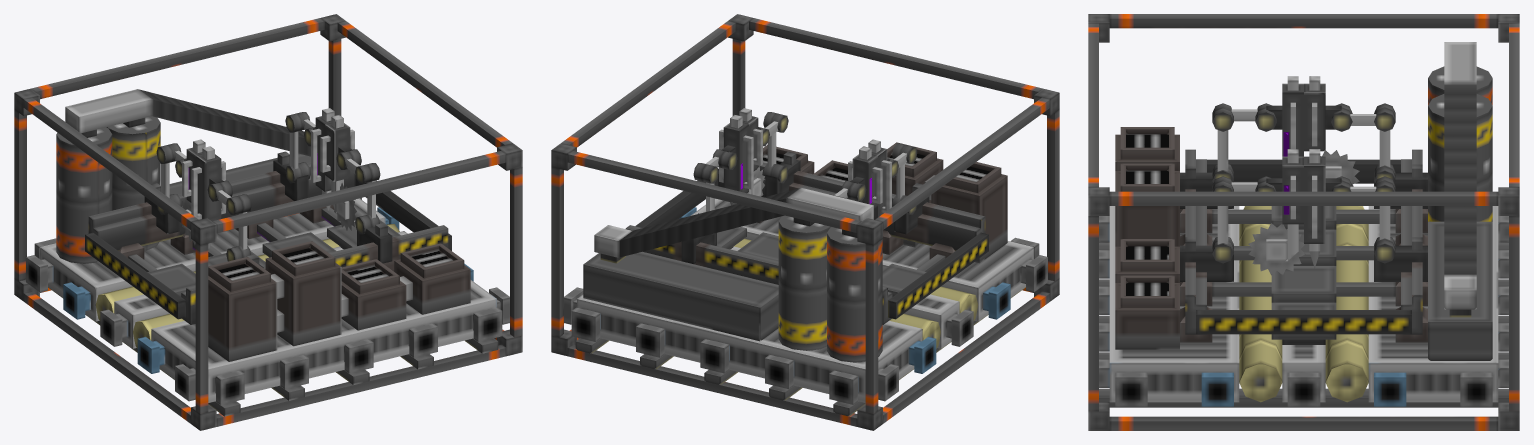
Rendered from assembly_factory.obj.
The picture shows the model from 3 angles, left to right: view 1: azimuth 30°, elevation 25°; view 2: azimuth 150°, elevation 25°; view 3: azimuth 270°, elevation 25°; orthographic projection. The views are drawn at different scales.
Parts seen in each view (by area): view 1: Base, Frame, Head3, Head2, Slider2, Head1, Slider1, ArmLower1, Head4, Slider4, ArmLower4, ArmUpper3 (+2 smaller); view 2: Base, Frame, Head1, Head4, Slider2, Head3, Slider3, Head2, Slider1, ArmLower2; view 3: Base, Frame, Head3, Slider1, Head1, Head4, Slider2, Head2, Blade2, ArmLower3, ArmUpper4, Striker2 (+8 smaller).
Part boxes in pixels (box(x1,y1,x2,y2)): Base: box(14, 89, 522, 430); Frame: box(14, 14, 522, 413); Head3: box(191, 154, 232, 221); Head2: box(320, 123, 361, 181); Slider2: box(355, 215, 392, 263); Head1: box(304, 116, 331, 191); Slider1: box(273, 151, 310, 200); ArmLower1: box(285, 114, 302, 183); Head4: box(175, 147, 202, 202); Slider4: box(144, 183, 181, 234); ArmLower4: box(156, 145, 173, 214); ArmUpper3: box(207, 183, 243, 214); Base: box(551, 142, 1059, 430); Frame: box(551, 14, 1059, 413); Head1: box(719, 123, 753, 193); Head4: box(848, 154, 882, 208); Slider2: box(765, 151, 800, 196); Head3: box(871, 147, 891, 219); Slider3: box(894, 183, 929, 234); Head2: box(742, 116, 762, 171); Slider1: box(681, 213, 716, 263); ArmLower2: box(763, 112, 778, 178); Base: box(1088, 42, 1519, 430); Frame: box(1088, 14, 1519, 411); Head3: box(1255, 83, 1303, 156); Slider1: box(1374, 237, 1427, 281); Head1: box(1304, 156, 1352, 243); Head4: box(1304, 83, 1352, 151); Slider2: box(1180, 237, 1233, 281); Head2: box(1255, 156, 1303, 224); Blade2: box(1248, 223, 1305, 275); ArmLower3: box(1212, 108, 1233, 182); ArmUpper4: box(1331, 108, 1395, 131); Striker2: box(1266, 149, 1298, 261).
Bounding box in the file's own units: 5 × 3 × 5.
